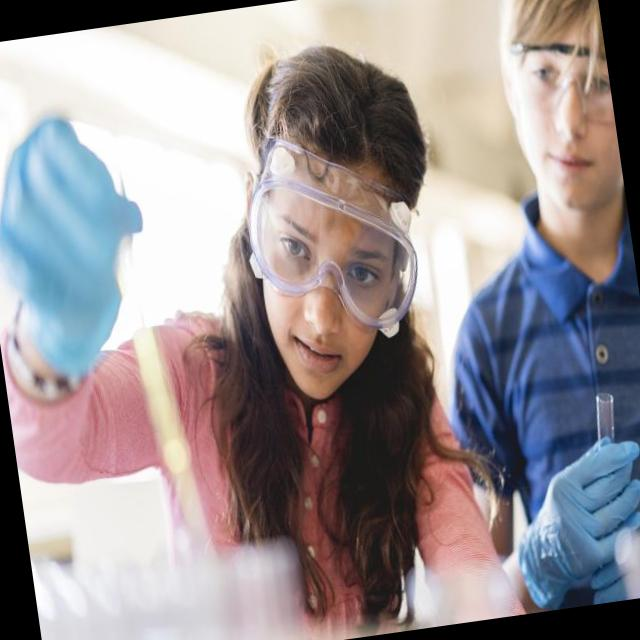Gloves: (0, 75, 164, 394), (485, 429, 640, 591)
